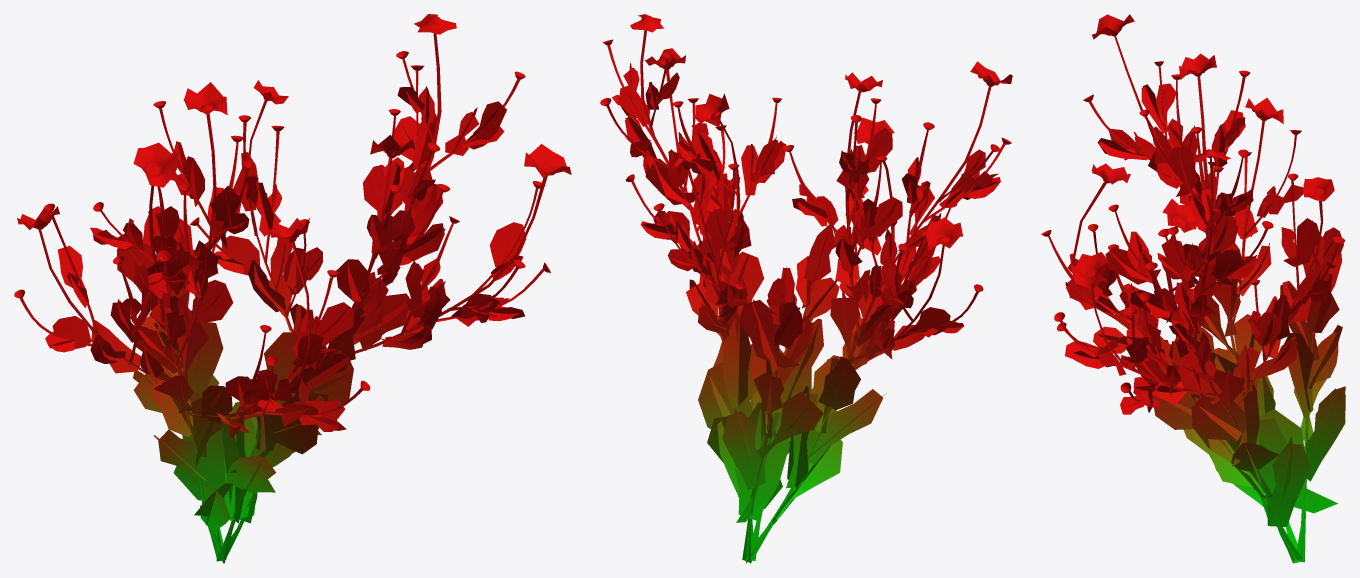
Rendered from Chamomile_LOD0_Var3_ujcnejvja.fbx.
The picture shows the model from 3 angles, left to right: view 1: azimuth 30°, elevation 25°; view 2: azimuth 150°, elevation 25°; view 3: azimuth 270°, elevation 25°; orthographic projection. The views are drawn at different scales.
Parts seen in each view (by area): view 1: _os2j_Var3_LOD0; view 2: _os2j_Var3_LOD0; view 3: _os2j_Var3_LOD0.
Boxes of the visible parts, box(x1,y1,x2,y2) form: _os2j_Var3_LOD0: box(14, 14, 571, 563); _os2j_Var3_LOD0: box(600, 14, 1012, 563); _os2j_Var3_LOD0: box(1041, 14, 1345, 563).
Size of the model in its own units: 53.3 by 58.71 by 33.4.
